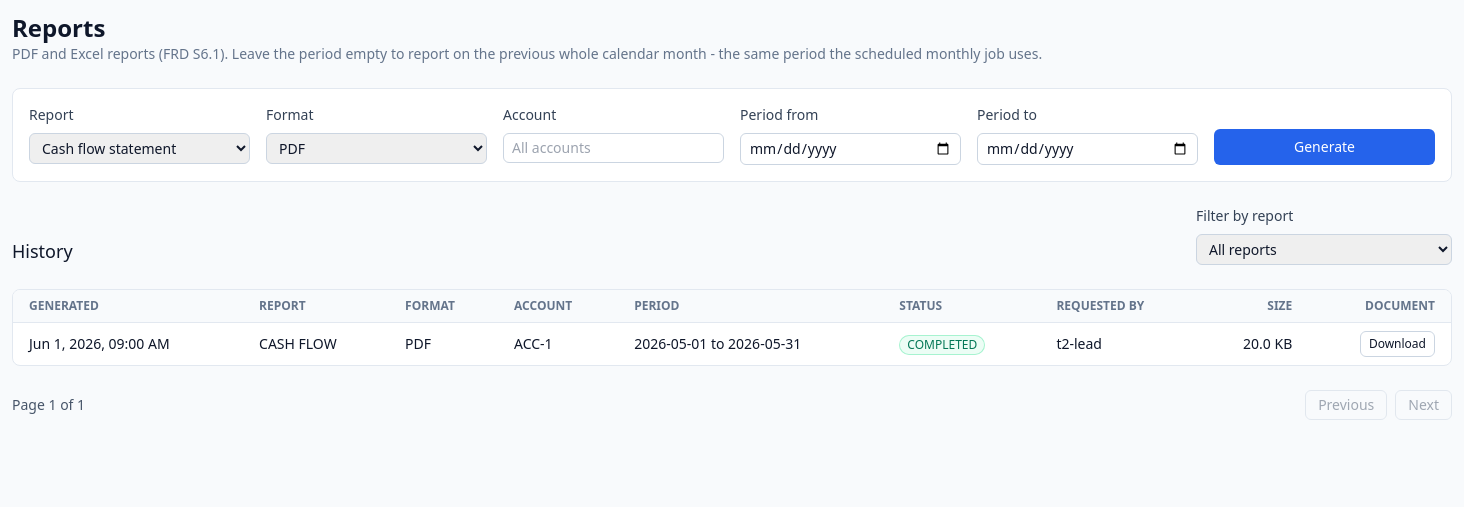
Test: Reports page › generates a report with the chosen type, format and period
Expected: the text "CASH FLOW" is shown, [243,322,389,365]
Select "Anomaly alerts" in the dropdown labelled "Report" at (140, 148), box [29,133,250,164]
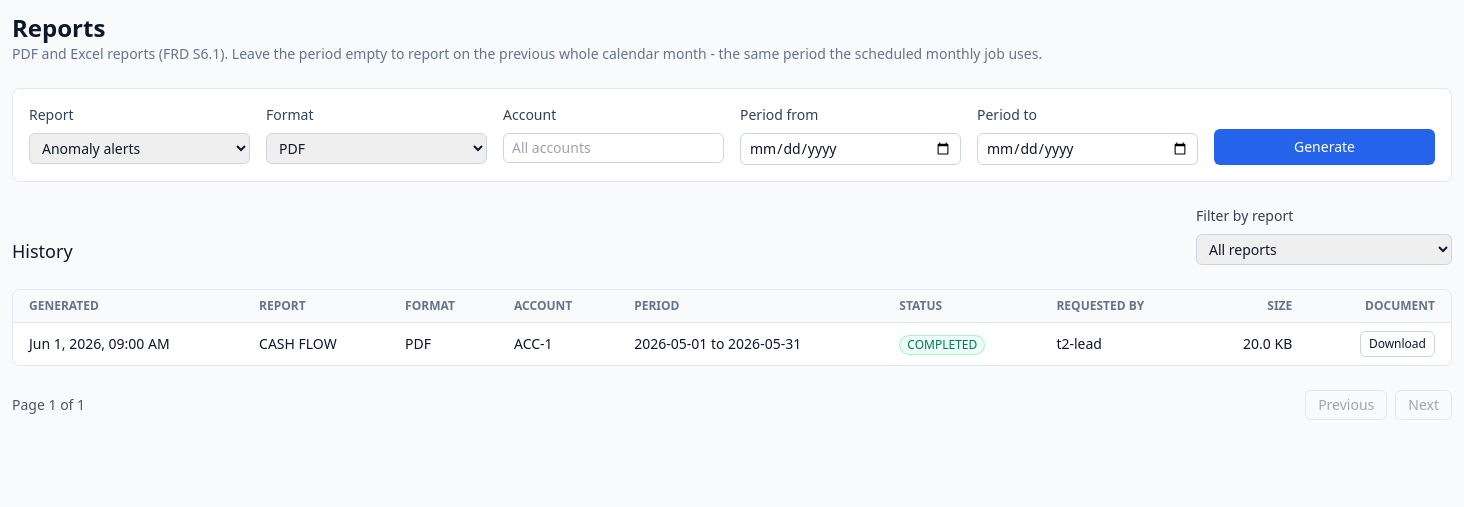
Select "XLSX" in the dropdown labelled "Format" at (376, 148), box [266,133,487,164]
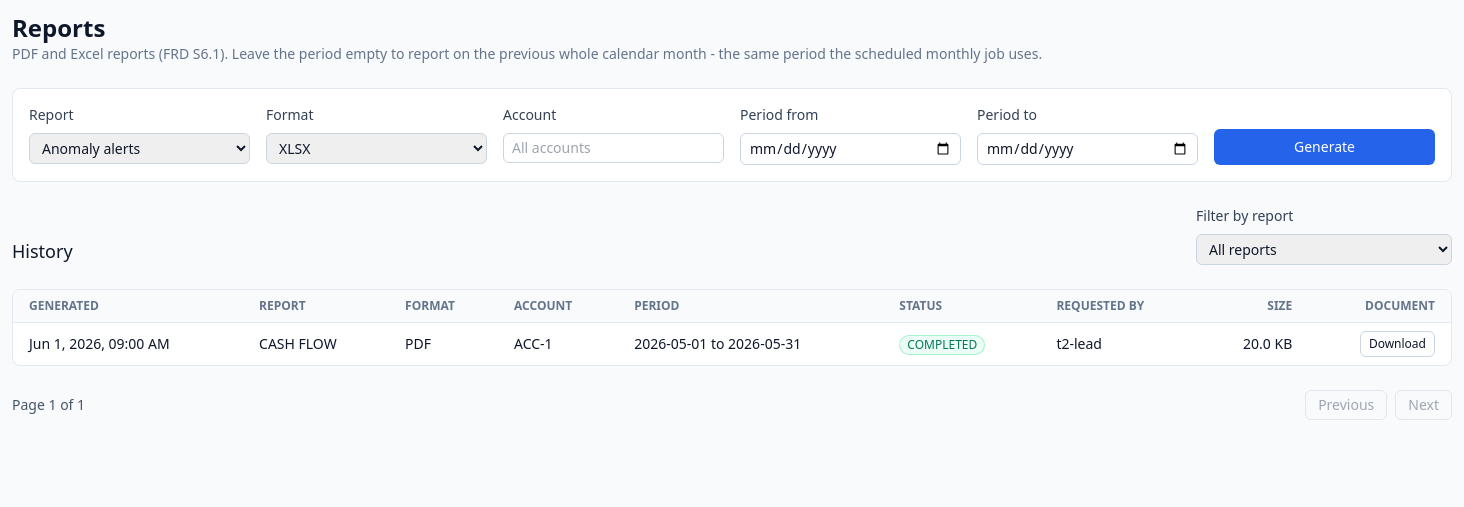
Type "ACC-9" into the field labelled "Account" at (614, 148), box [503,133,724,163]
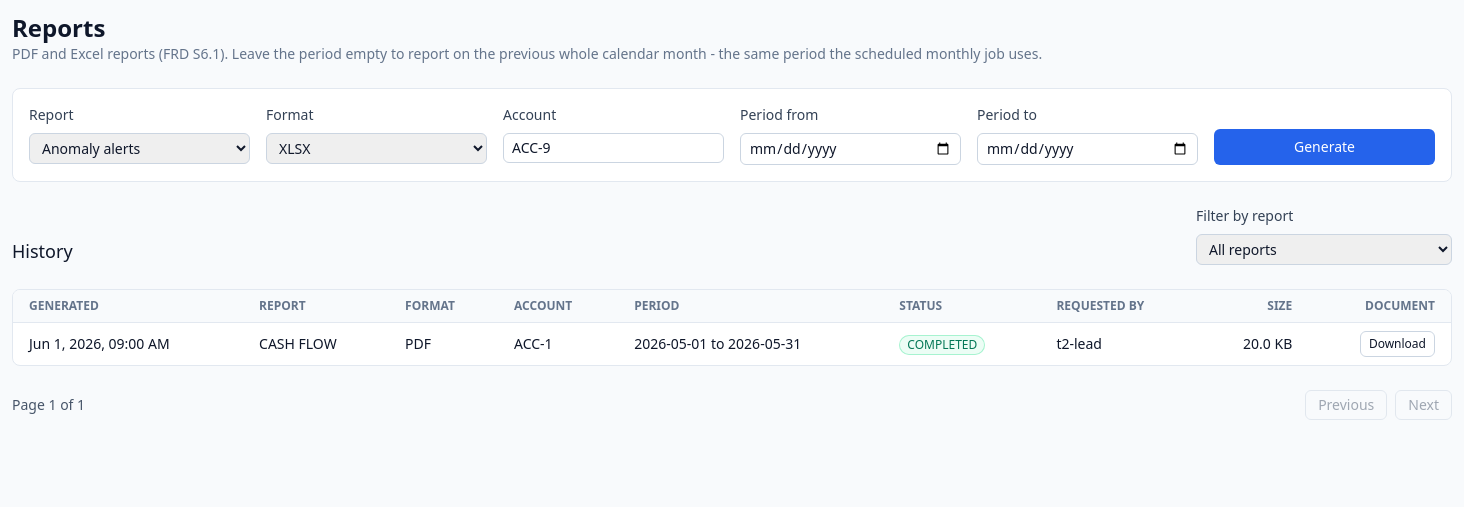
Type "2026-04-01" into the date field labelled "Period from" at (850, 149), box [740,133,961,165]
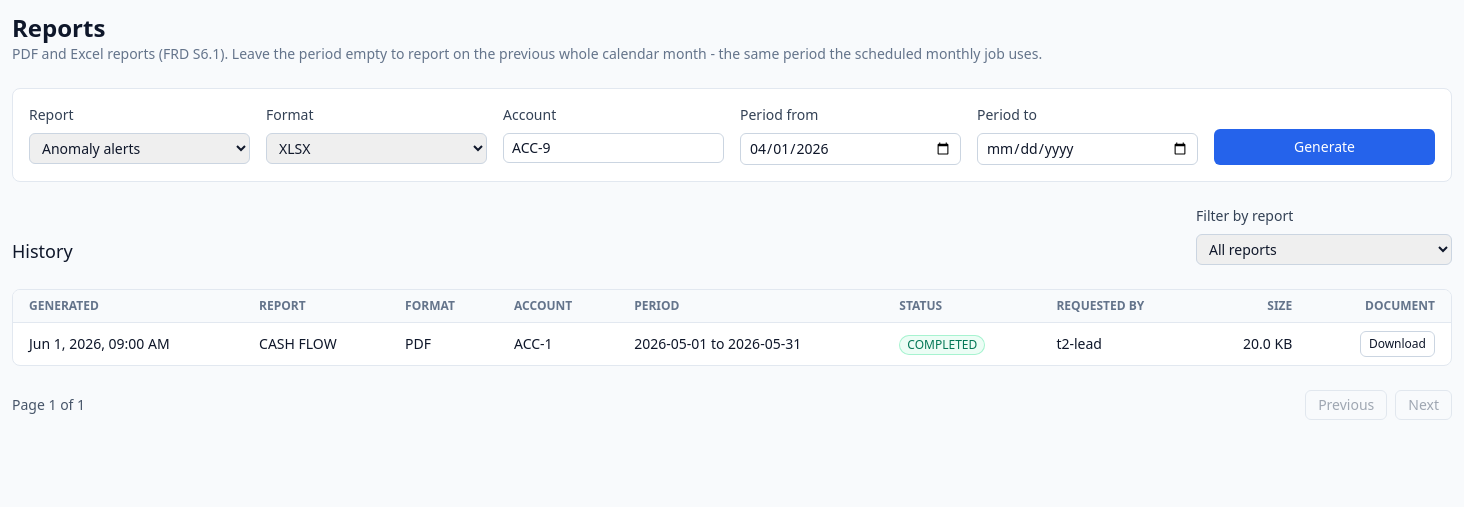
Type "2026-04-30" into the date field labelled "Period to" at (1088, 149), box [977,133,1198,165]
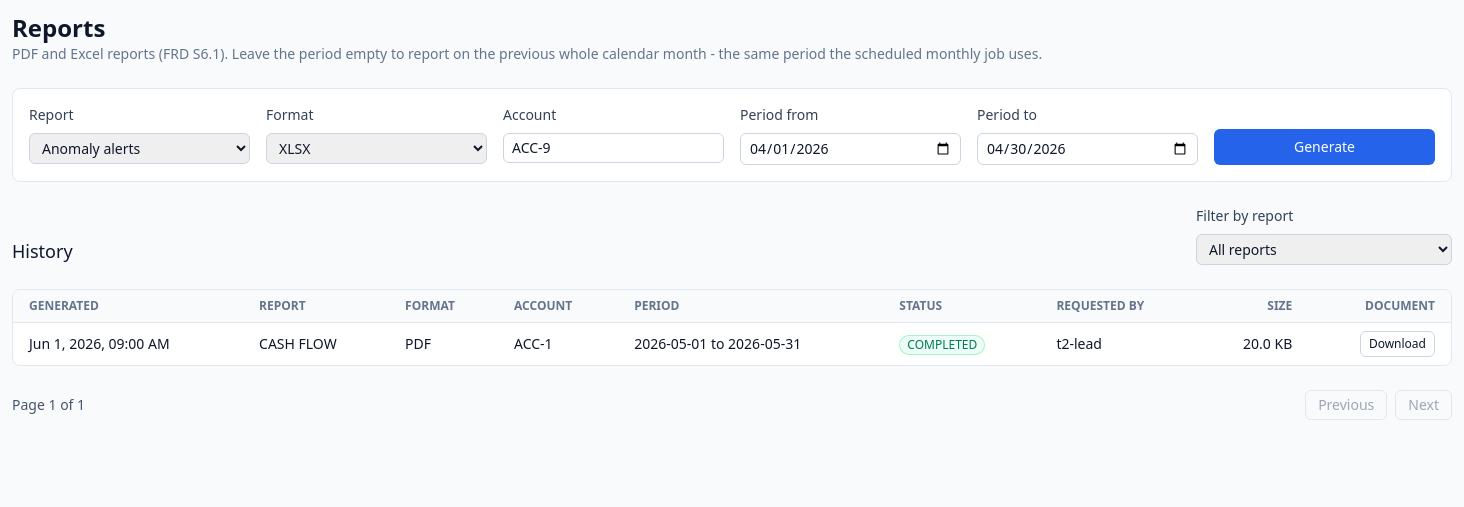
Click the button "Generate" at (1324, 147), box [1214,129,1435,165]
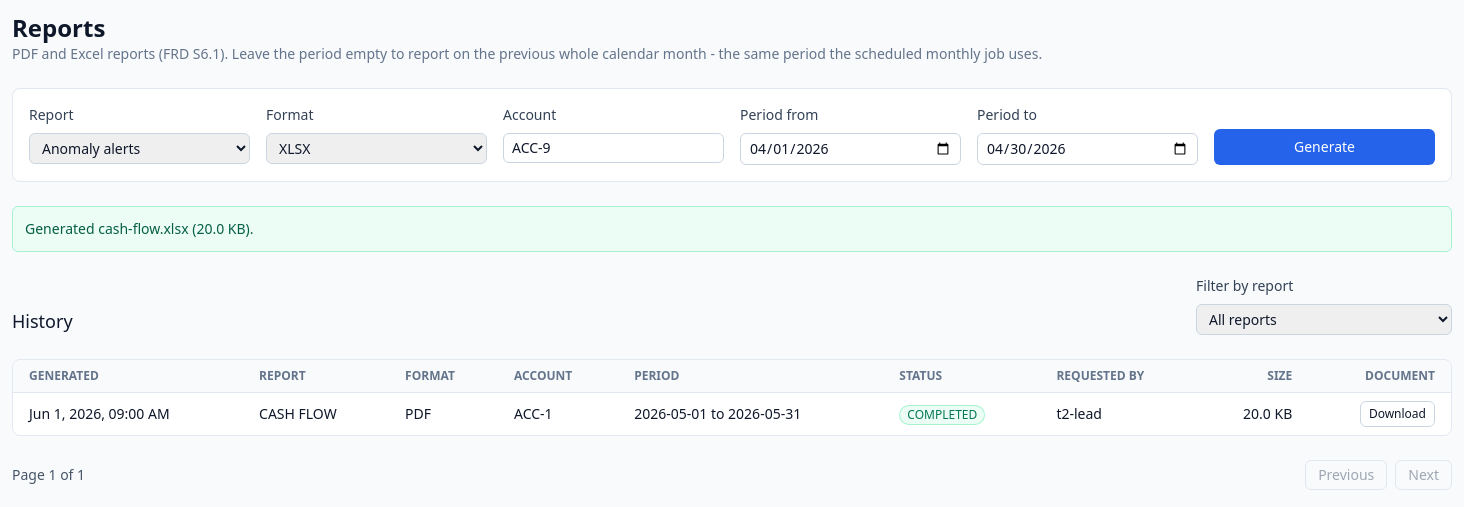
Now the text "Generated cash-flow.xlsx (20.0 KB)." is shown, box [12,206,1452,252]
